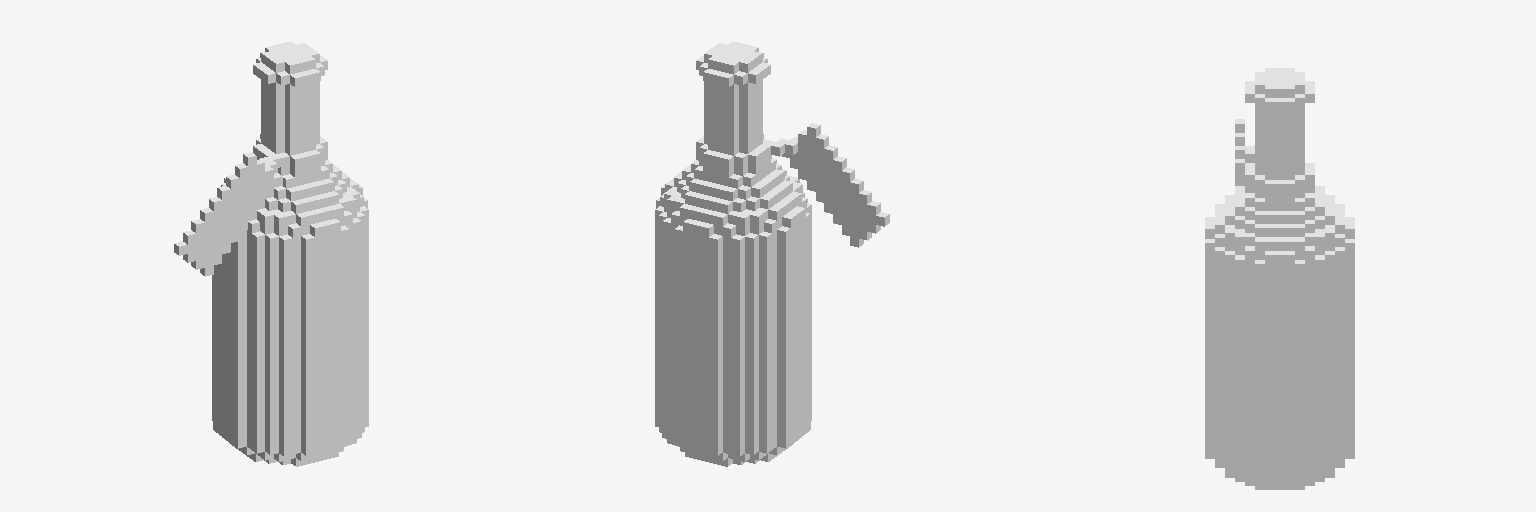
The model's file is drink.obj.
The picture shows the model from 3 angles: view 1: azimuth 30°, elevation 25°; view 2: azimuth 150°, elevation 25°; view 3: azimuth 270°, elevation 25°; orthographic projection.
Visible parts, largest first — view 1: object 1; view 2: object 1; view 3: object 1.
Part boxes in pixels (bbox=[...]): object 1: bbox=[174, 41, 368, 466]; object 1: bbox=[655, 41, 889, 466]; object 1: bbox=[1205, 68, 1354, 489].
Size of the model in its own units: 2.3 by 4.3 by 1.5.